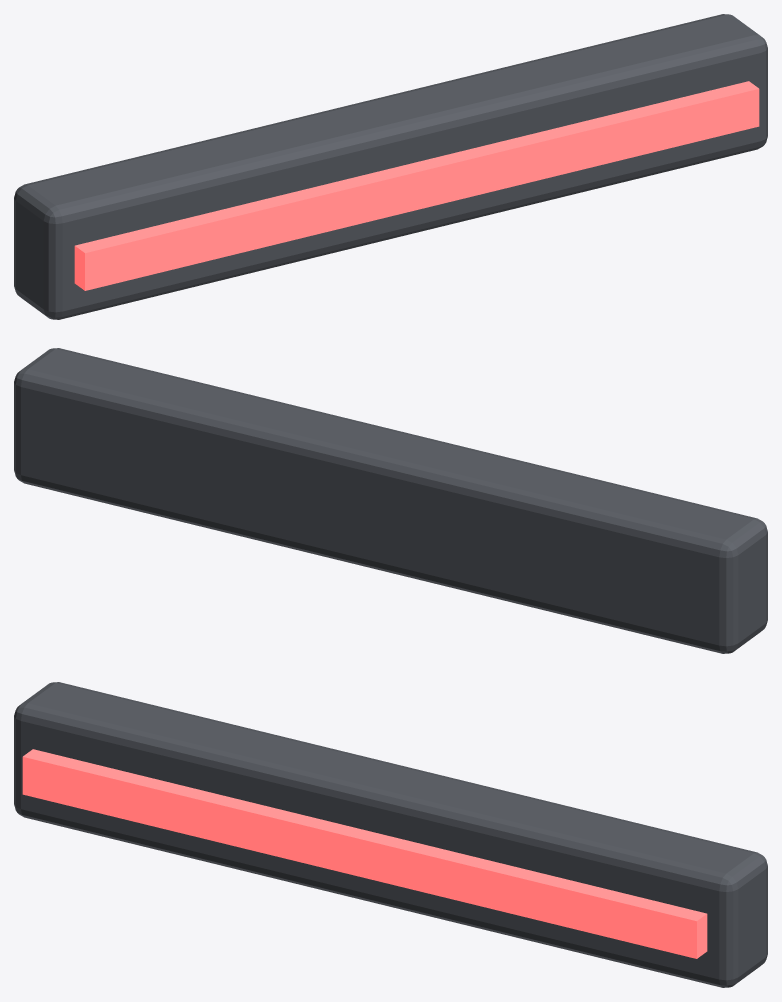
Rendered from wall_light_slit.glb.
3 renders of one model, top to bottom at view 1: azimuth 30°, elevation 25°; view 2: azimuth 150°, elevation 25°; view 3: azimuth 330°, elevation 25°, orthographic.
Visible parts, largest first — view 1: GD_wall_light_slit__m0, GD_wall_light_slit__m1; view 2: GD_wall_light_slit__m0; view 3: GD_wall_light_slit__m0, GD_wall_light_slit__m1.
Boxes of the visible parts, x1=… form: GD_wall_light_slit__m0: x1=14, y1=14, x2=767, y2=319; GD_wall_light_slit__m1: x1=74, y1=81, x2=759, y2=290; GD_wall_light_slit__m0: x1=14, y1=348, x2=767, y2=653; GD_wall_light_slit__m0: x1=14, y1=682, x2=767, y2=987; GD_wall_light_slit__m1: x1=22, y1=749, x2=707, y2=958.
Size of the model in its own units: 0.6 by 0.09 by 0.075.
